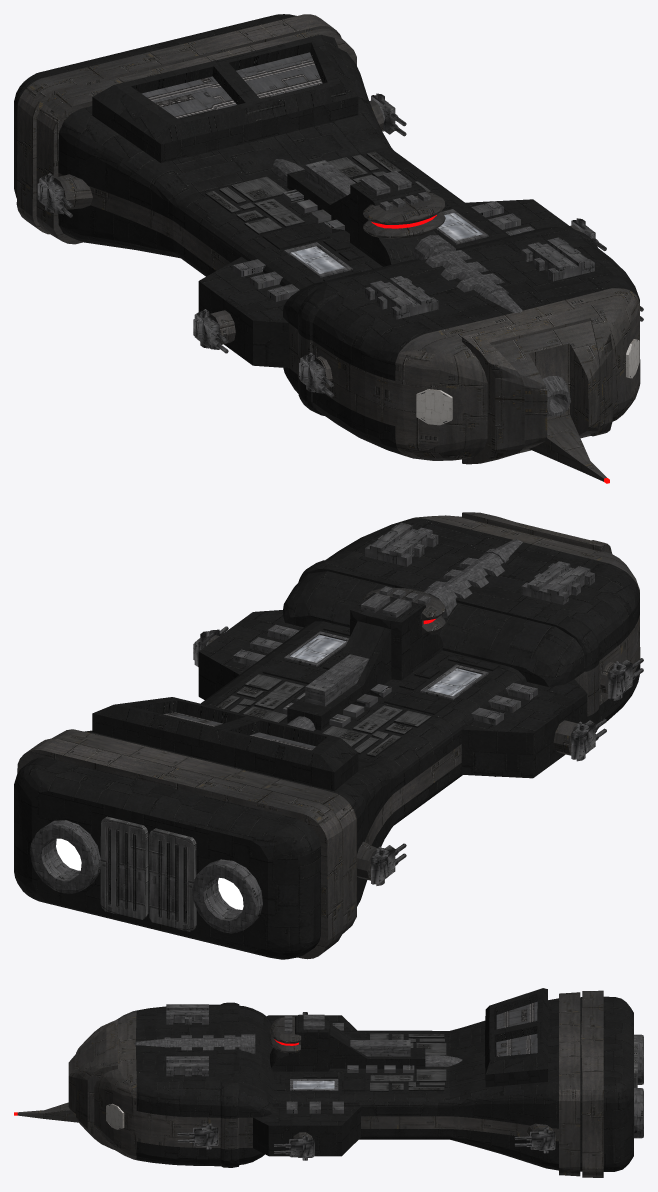
Rendered from shadowcloak.glb.
The picture shows the model from 3 angles, top to bottom: view 1: azimuth 30°, elevation 25°; view 2: azimuth 150°, elevation 25°; view 3: azimuth 270°, elevation 25°; orthographic projection. The views are drawn at different scales.
Visible parts, largest first — view 1: EA-Tethys-CT-NoHole; view 2: EA-Tethys-CT-NoHole; view 3: EA-Tethys-CT-NoHole.
Boxes of the visible parts, x1,y1,x2,y2 form: EA-Tethys-CT-NoHole: (14, 14, 643, 483); EA-Tethys-CT-NoHole: (14, 512, 643, 959); EA-Tethys-CT-NoHole: (14, 988, 643, 1177).
Bounding box in the file's own units: 5.12 × 2.1 × 10.61.
13 materials, 11 textured.
